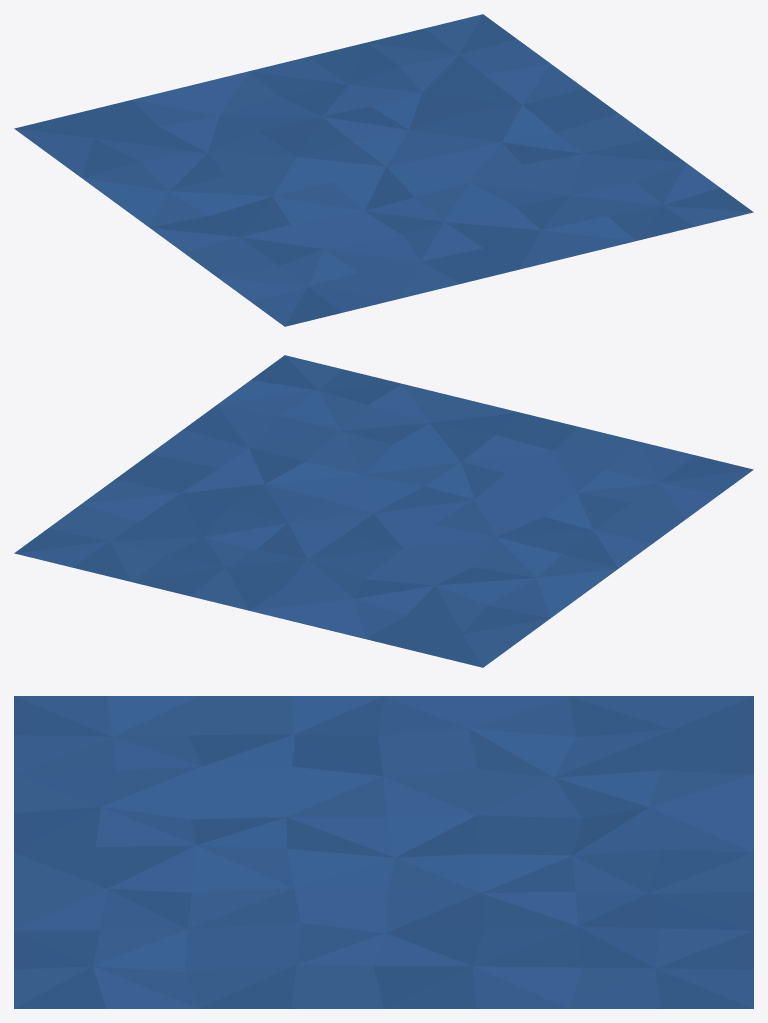
The model's file is ground_shallow_water_b.glb.
3 views of the same model, one above another, from view 1: azimuth 30°, elevation 25°; view 2: azimuth 150°, elevation 25°; view 3: azimuth 270°, elevation 25° (orthographic). The views are drawn at different scales.
Parts seen in each view (by area): view 1: ground_shallow_water_b; view 2: ground_shallow_water_b; view 3: ground_shallow_water_b.
Part boxes in pixels (x1,y1,x2,y2): ground_shallow_water_b: [14, 14, 753, 326]; ground_shallow_water_b: [14, 355, 753, 667]; ground_shallow_water_b: [14, 696, 753, 1008].
Bounding box in the file's own units: 4 × 0.0223 × 4.
